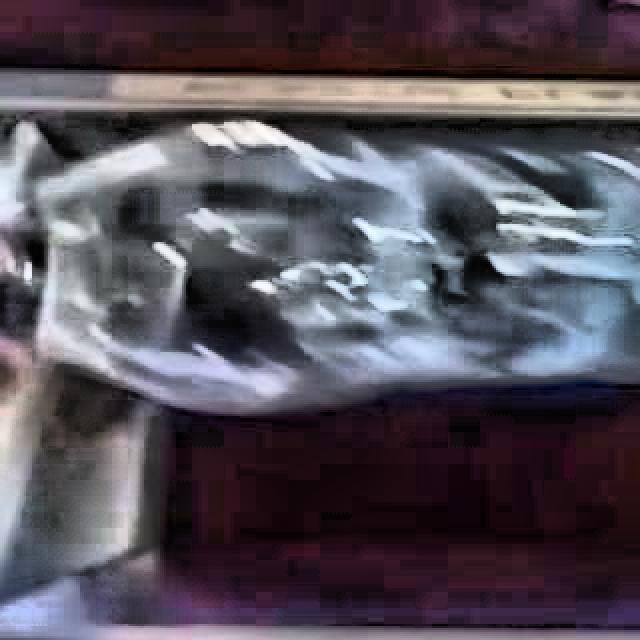plastic: (37, 121, 640, 417)
